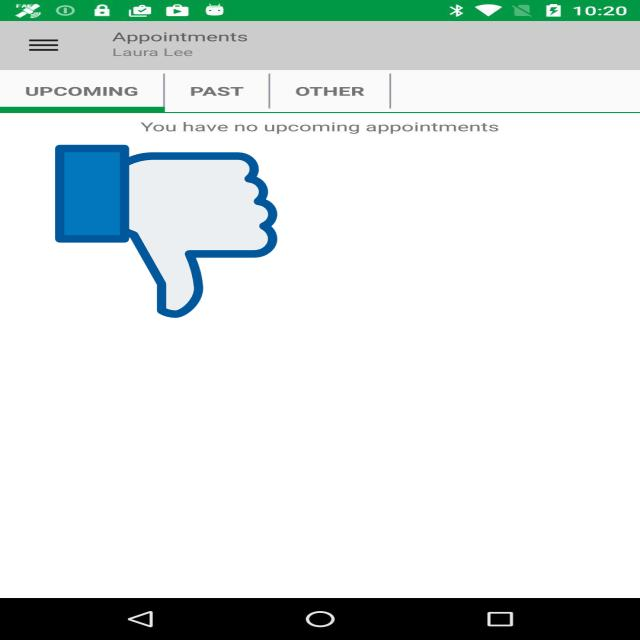obstruction: (55, 141, 277, 322)
